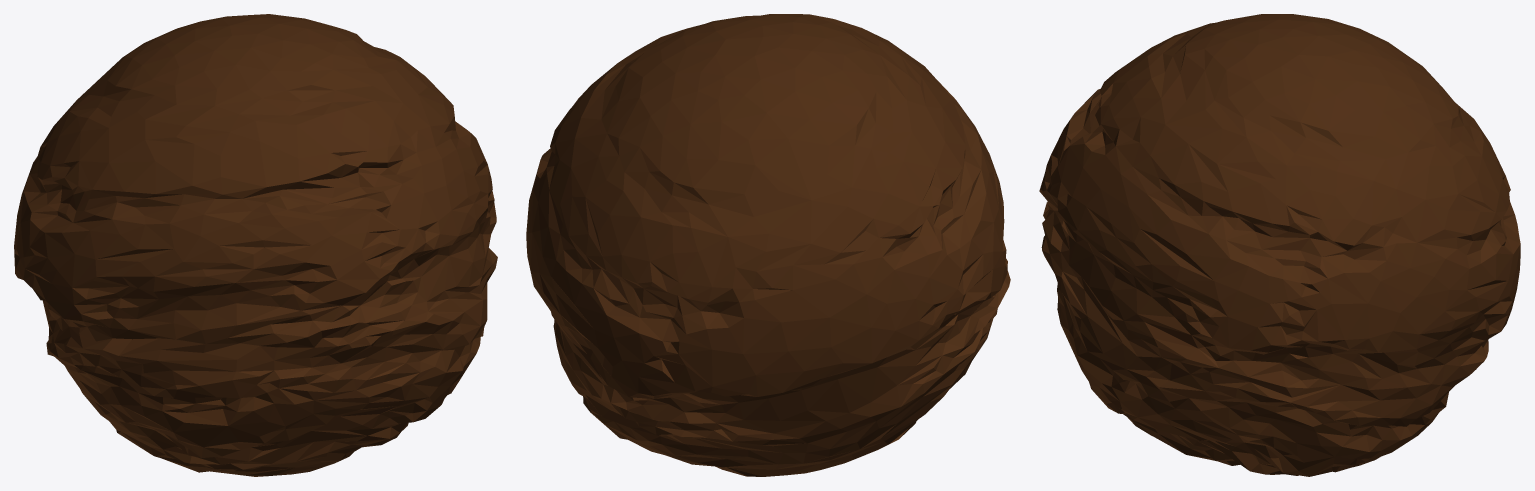
File: Planet 2.FBX
3 renders of one model, left to right at view 1: azimuth 30°, elevation 25°; view 2: azimuth 150°, elevation 25°; view 3: azimuth 270°, elevation 25°, orthographic.
Parts seen in each view (by area): view 1: Planet 2; view 2: Planet 2; view 3: Planet 2.
Boxes of the visible parts, <box> form: Planet 2: <box>14,14,497,476</box>; Planet 2: <box>526,14,1010,476</box>; Planet 2: <box>1039,14,1520,476</box>.
Size of the model in its own units: 238 by 220 by 234.
